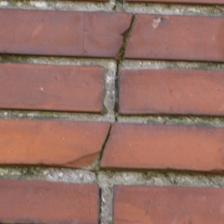Crack: (49, 6, 90, 163)
